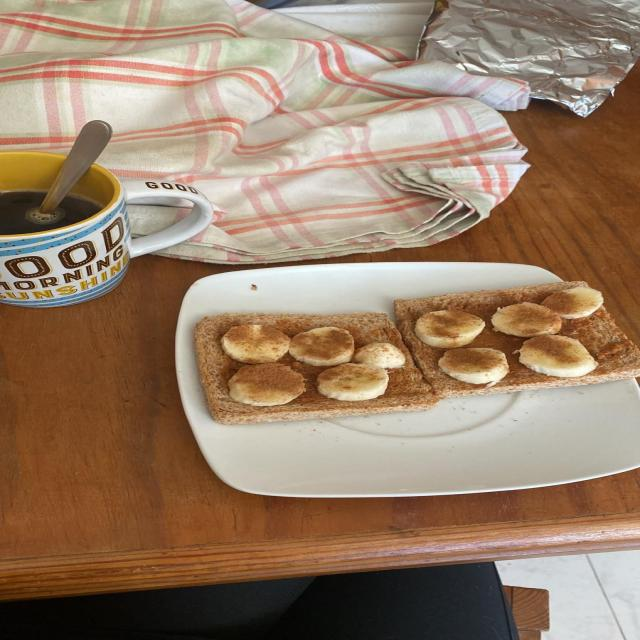banana: (221, 324, 405, 406), (491, 283, 603, 378), (415, 310, 508, 386)
coffee: (0, 191, 100, 236)
coffee cup: (0, 151, 213, 307)
plate: (176, 263, 639, 497)
spoon: (25, 121, 112, 225)
toasted bread: (193, 282, 639, 424)
